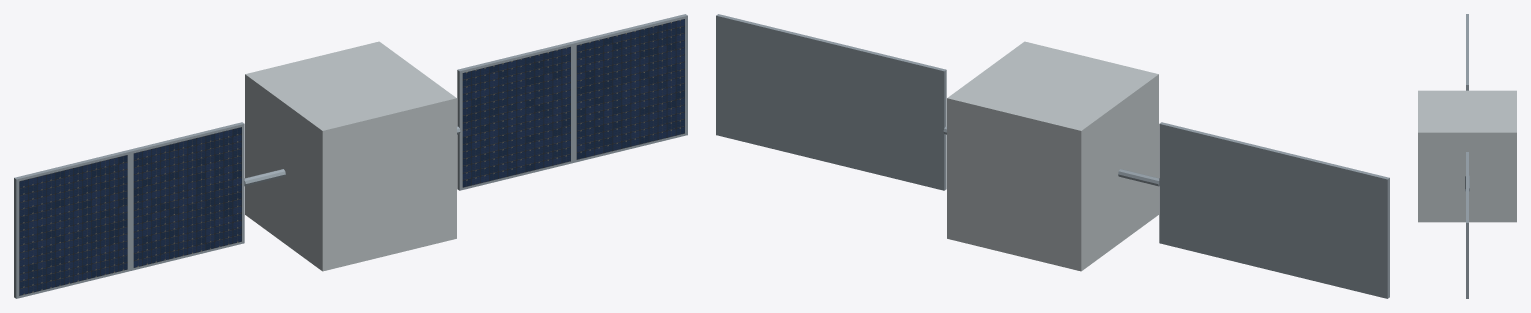
Rendered from ref-p-30-65321.glb.
3 renders of one model, left to right at view 1: azimuth 30°, elevation 25°; view 2: azimuth 150°, elevation 25°; view 3: azimuth 270°, elevation 25°, orthographic. The views are drawn at different scales.
Visible parts, largest first — view 1: Photovoltaic laminates (×4), Spacecraft body, Array frame (×4); view 2: Array frame (×4), Spacecraft body; view 3: Spacecraft body, Array frame (×4).
Part boxes in pixels (<box>): Photovoltaic laminates (×4): <box>19,19,684,295</box>; Spacecraft body: <box>245,41,456,271</box>; Array frame (×4): <box>14,14,687,298</box>; Array frame (×4): <box>716,14,1389,298</box>; Spacecraft body: <box>947,41,1158,271</box>; Spacecraft body: <box>1418,90,1516,222</box>; Array frame (×4): <box>1466,14,1468,298</box>.
Size of the model in its own units: 1.5 by 0.3 by 0.3.
Materials: 3 (1 with a texture image).
